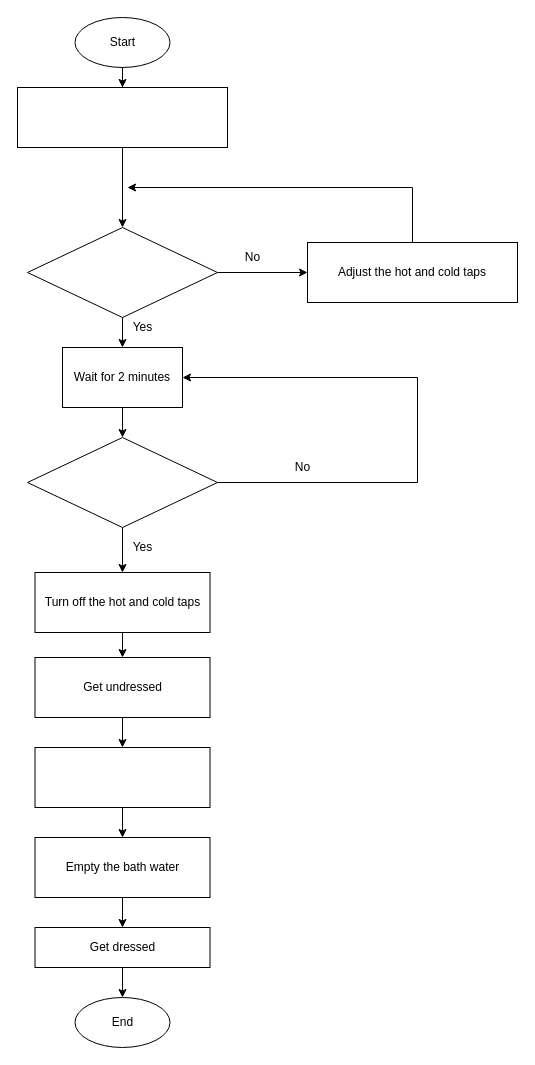
Some shapes in this 535 by 1065 pixel diagram are drawn without their labels. The shapes that lost their labels are listed below. From the top down, each one's centre as x and y in pixels, then its label:
At point (122, 117): "Turn on hot and cold taps".
At point (122, 272): "Is the water too hot or cold?".
At point (122, 482): "Is the bath full?".
At point (122, 777): "Wash".
